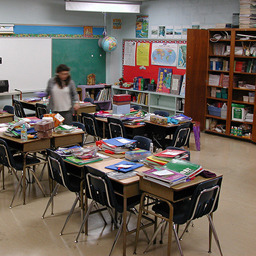person: (41, 64, 79, 126)
